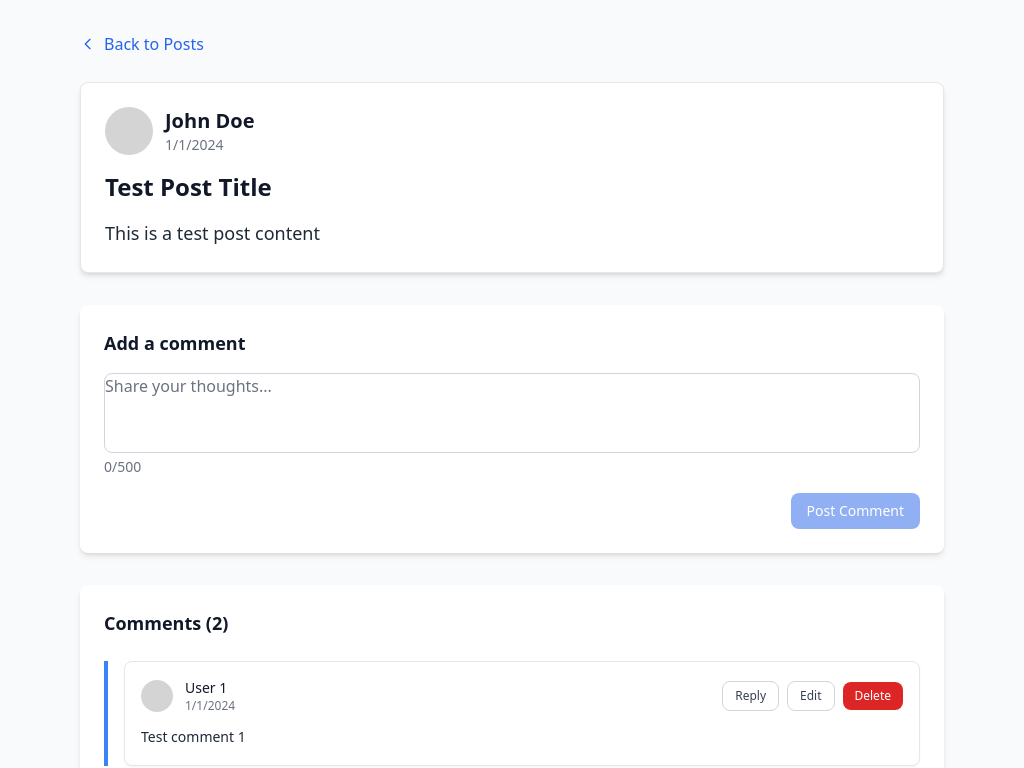
Scenario: PostDetail › should close delete modal when cancelled
Click the button "Delete". click: (873, 696)
box: [842,682,903,710]
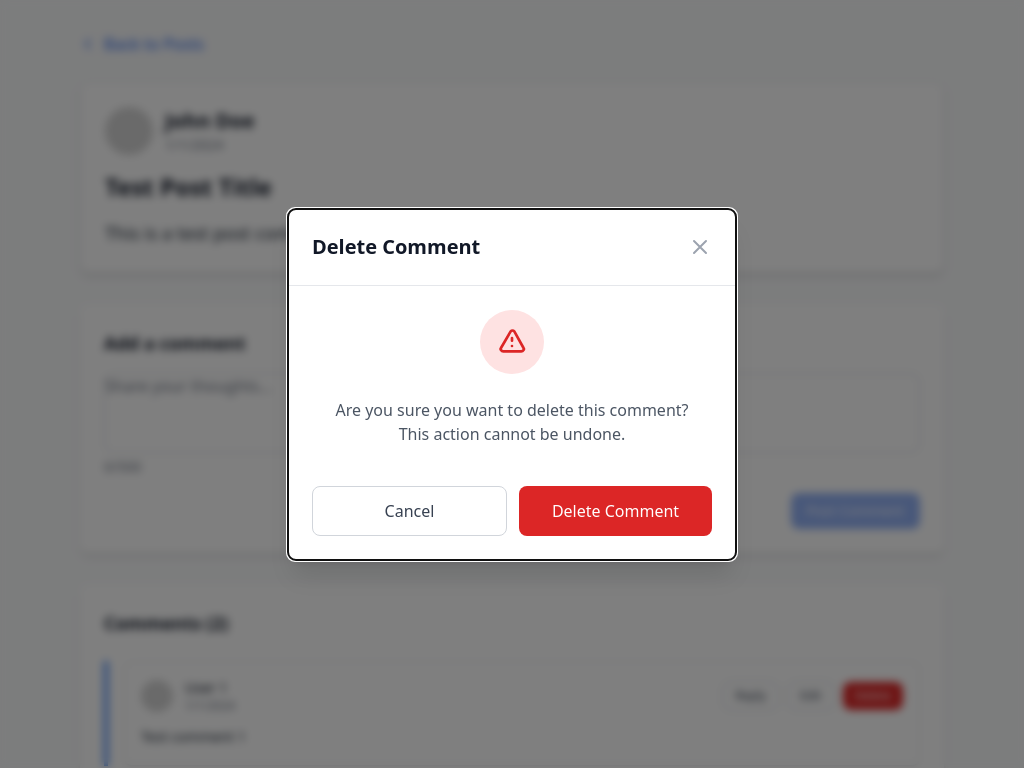
Expected: the heading "Delete Comment" is shown, [312,232,496,260]
Click the button "Cancel". click: (410, 510)
box: [312,486,507,536]
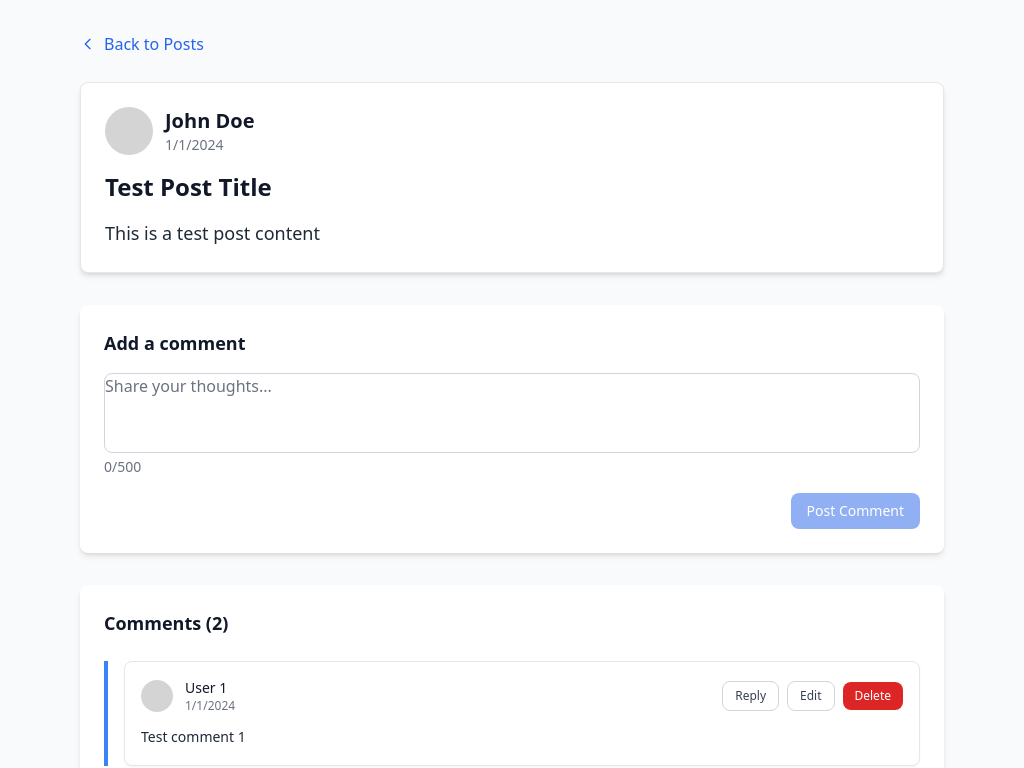
Expected: the heading "Delete Comment" is gone
